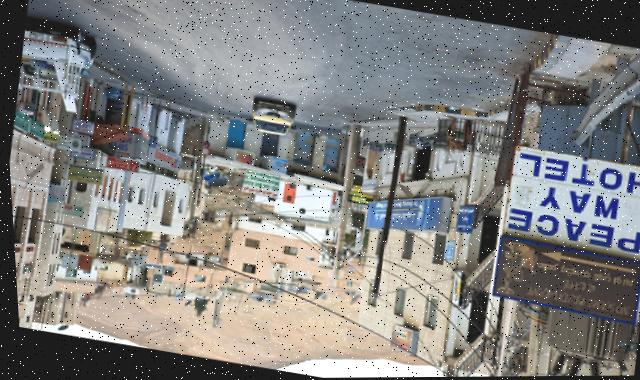car: (15, 25, 96, 96), (231, 90, 294, 135)
